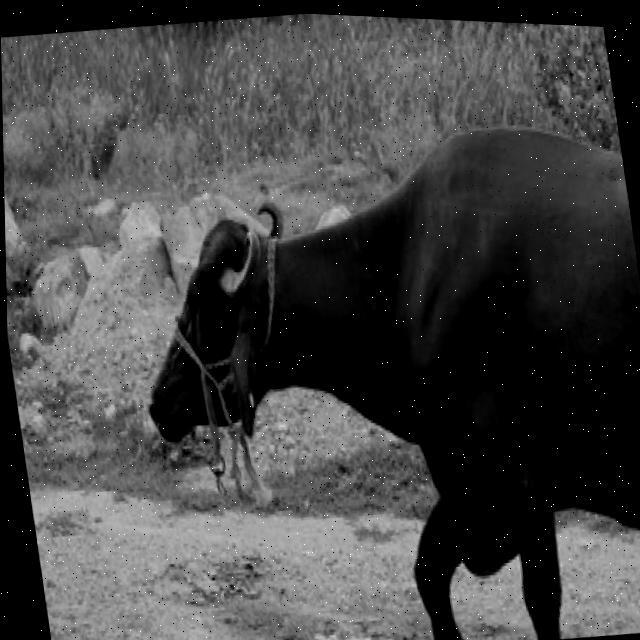Buffalo: (106, 85, 640, 640)
